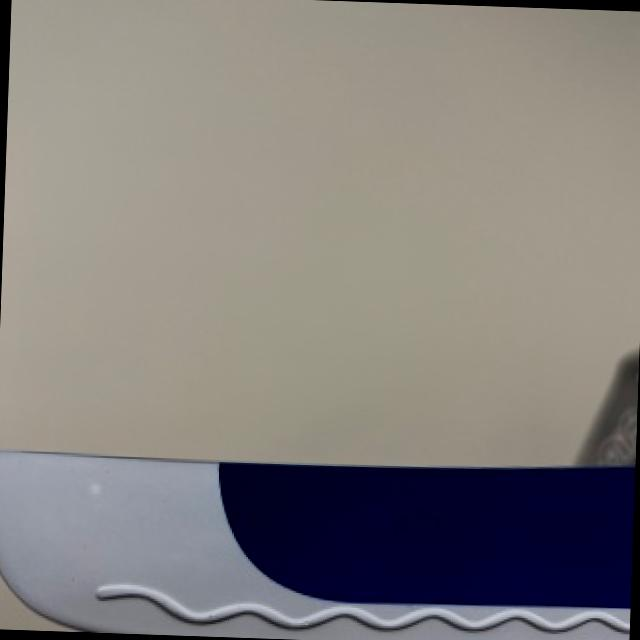healthy: (0, 0, 640, 465)
